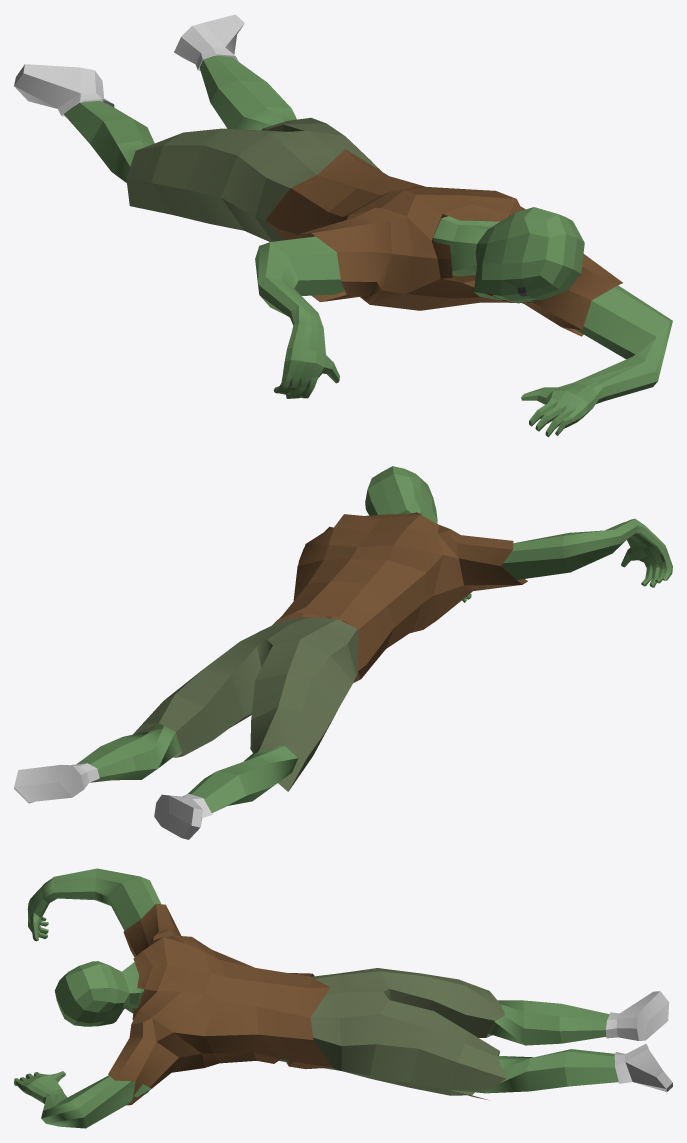
Rendered from ZombieCrawl(68).obj.
The picture shows the model from 3 angles, top to bottom: view 1: azimuth 30°, elevation 25°; view 2: azimuth 150°, elevation 25°; view 3: azimuth 270°, elevation 25°; orthographic projection. The views are drawn at different scales.
Parts seen in each view (by area): view 1: Object001; view 2: Object001; view 3: Object001.
Part boxes in pixels (box(x1,y1,x2,y2)): Object001: box(14, 14, 672, 437); Object001: box(14, 466, 672, 839); Object001: box(14, 868, 672, 1128).
Bounding box in the file's own units: 35.74 × 14.94 × 64.98.
